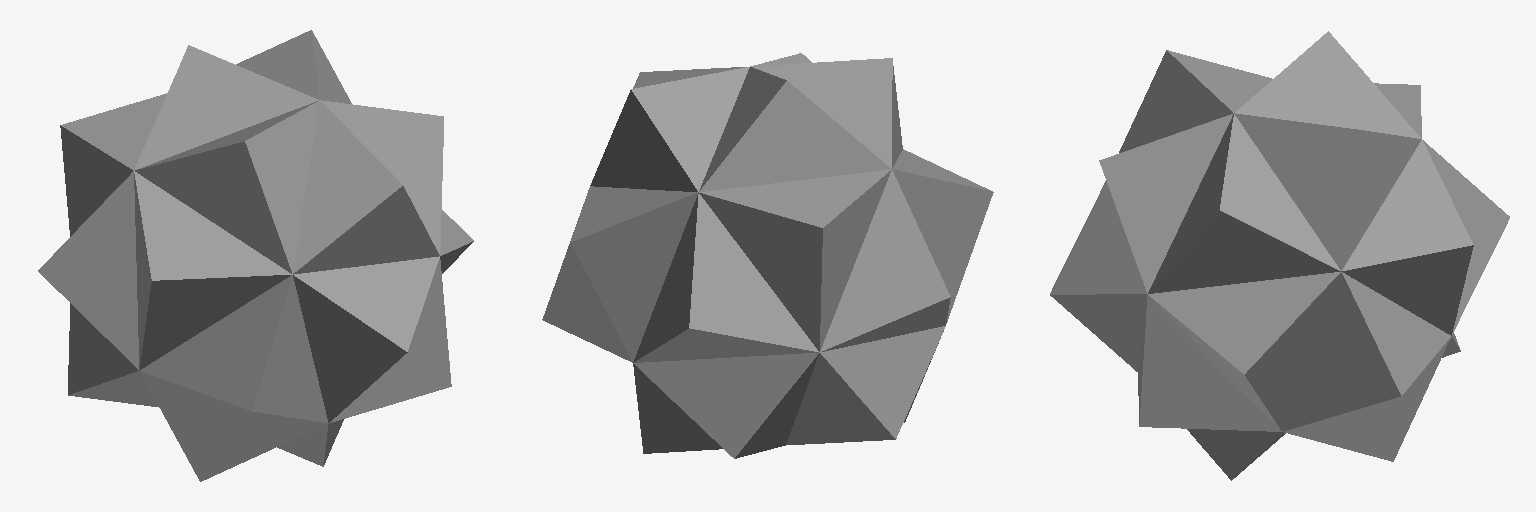
The model's file is icosahedron.obj.
3 views of the same model, side by side, from view 1: azimuth 30°, elevation 25°; view 2: azimuth 150°, elevation 25°; view 3: azimuth 270°, elevation 25° (orthographic).
Parts seen in each view (by area): view 1: Icosphere; view 2: Icosphere; view 3: Icosphere.
Part boxes in pixels (left/top/right/bottom): Icosphere: left=38, top=30, right=473, bottom=481; Icosphere: left=542, top=53, right=993, bottom=458; Icosphere: left=1050, top=31, right=1509, bottom=480.
Bounding box in the file's own units: 2.42 × 2.35 × 2.41.